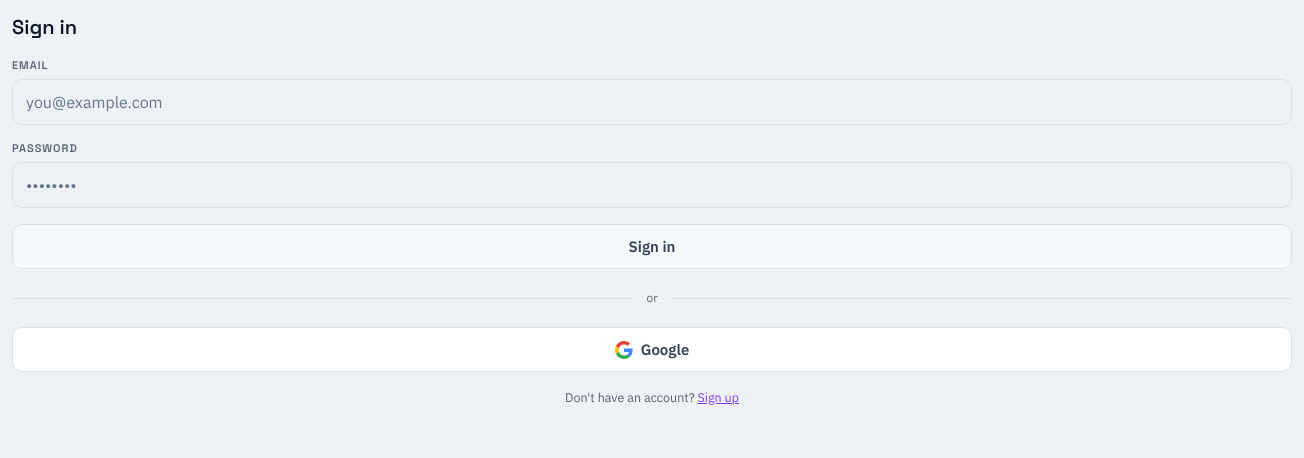
Test: SignInForm › shows the error and stays open when sign-in fails
Type "a@b.co" into the field labelled "Email". click: (652, 102)
box: [12,79,1292,125]
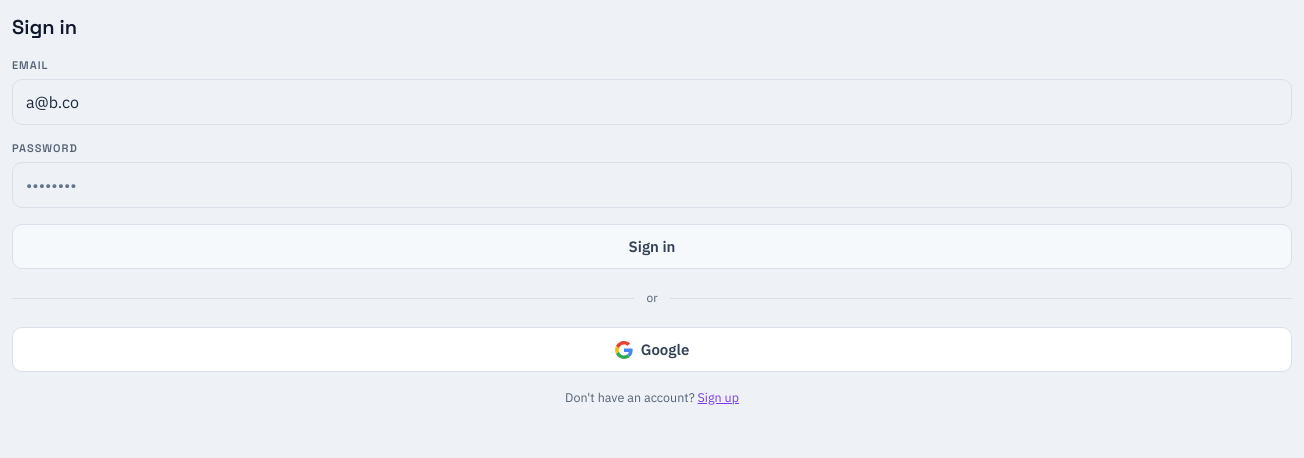
Type "nope" into the password field labelled "Password". click: (652, 185)
box: [12,162,1292,208]
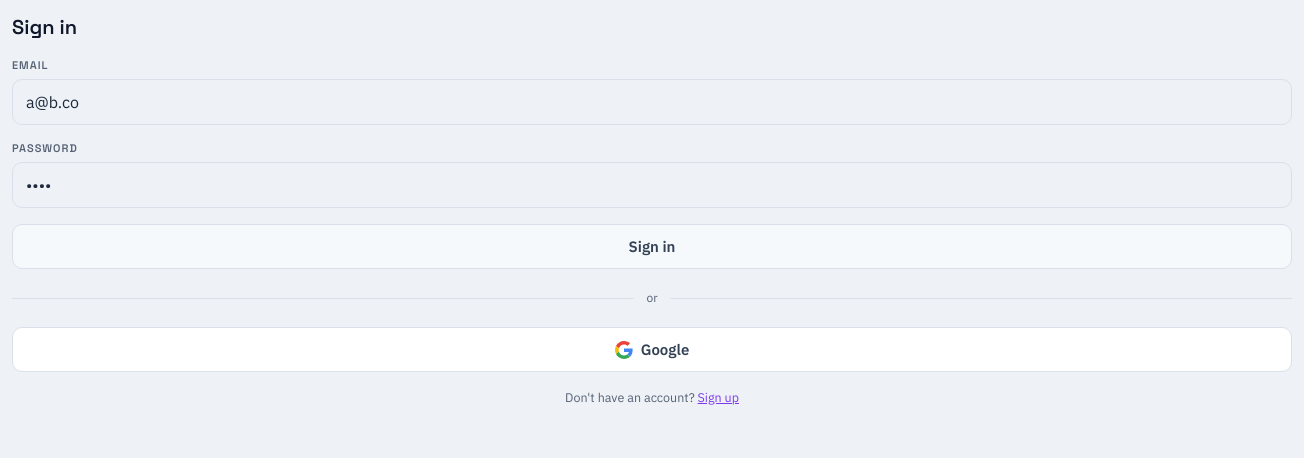
Click the button "Sign in". click: (652, 246)
box: [12,224,1292,269]
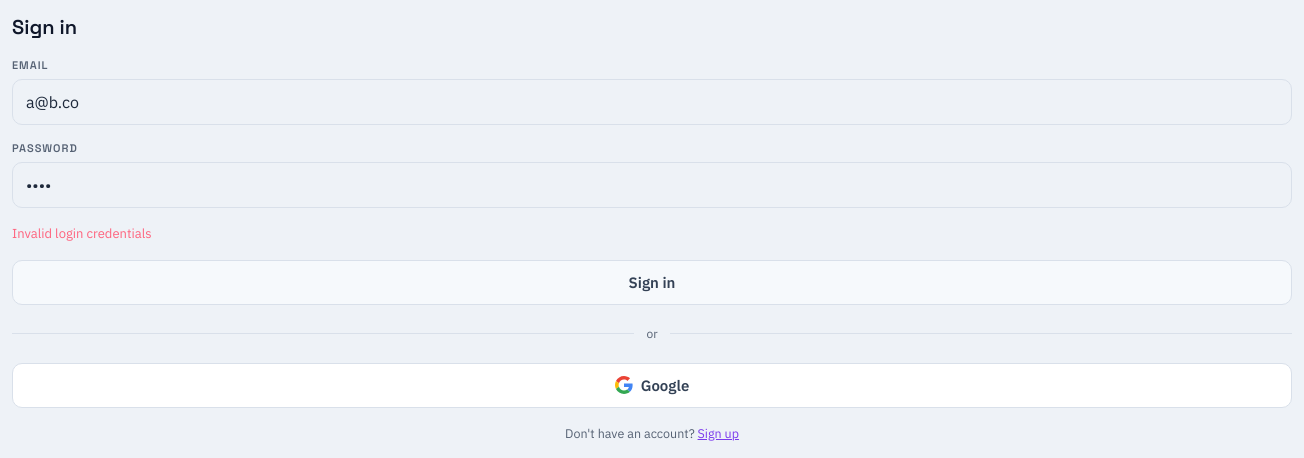
Expected: the text "Invalid login credentials" is shown, [12,225,152,242]
